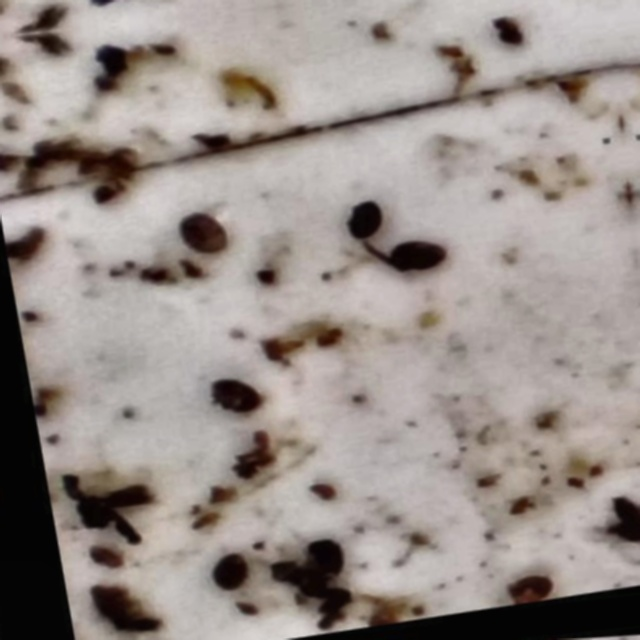varroa: (174, 209, 230, 262), (201, 374, 259, 424), (381, 241, 450, 283), (337, 203, 383, 248), (293, 540, 340, 584), (200, 553, 246, 597)
